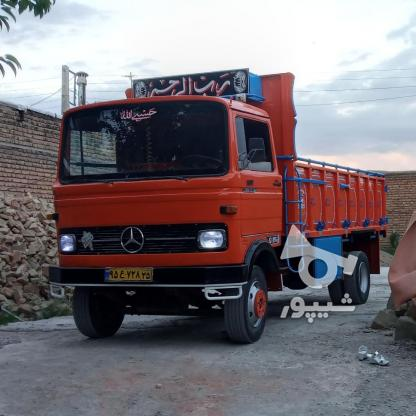car: (103, 267, 152, 281)
